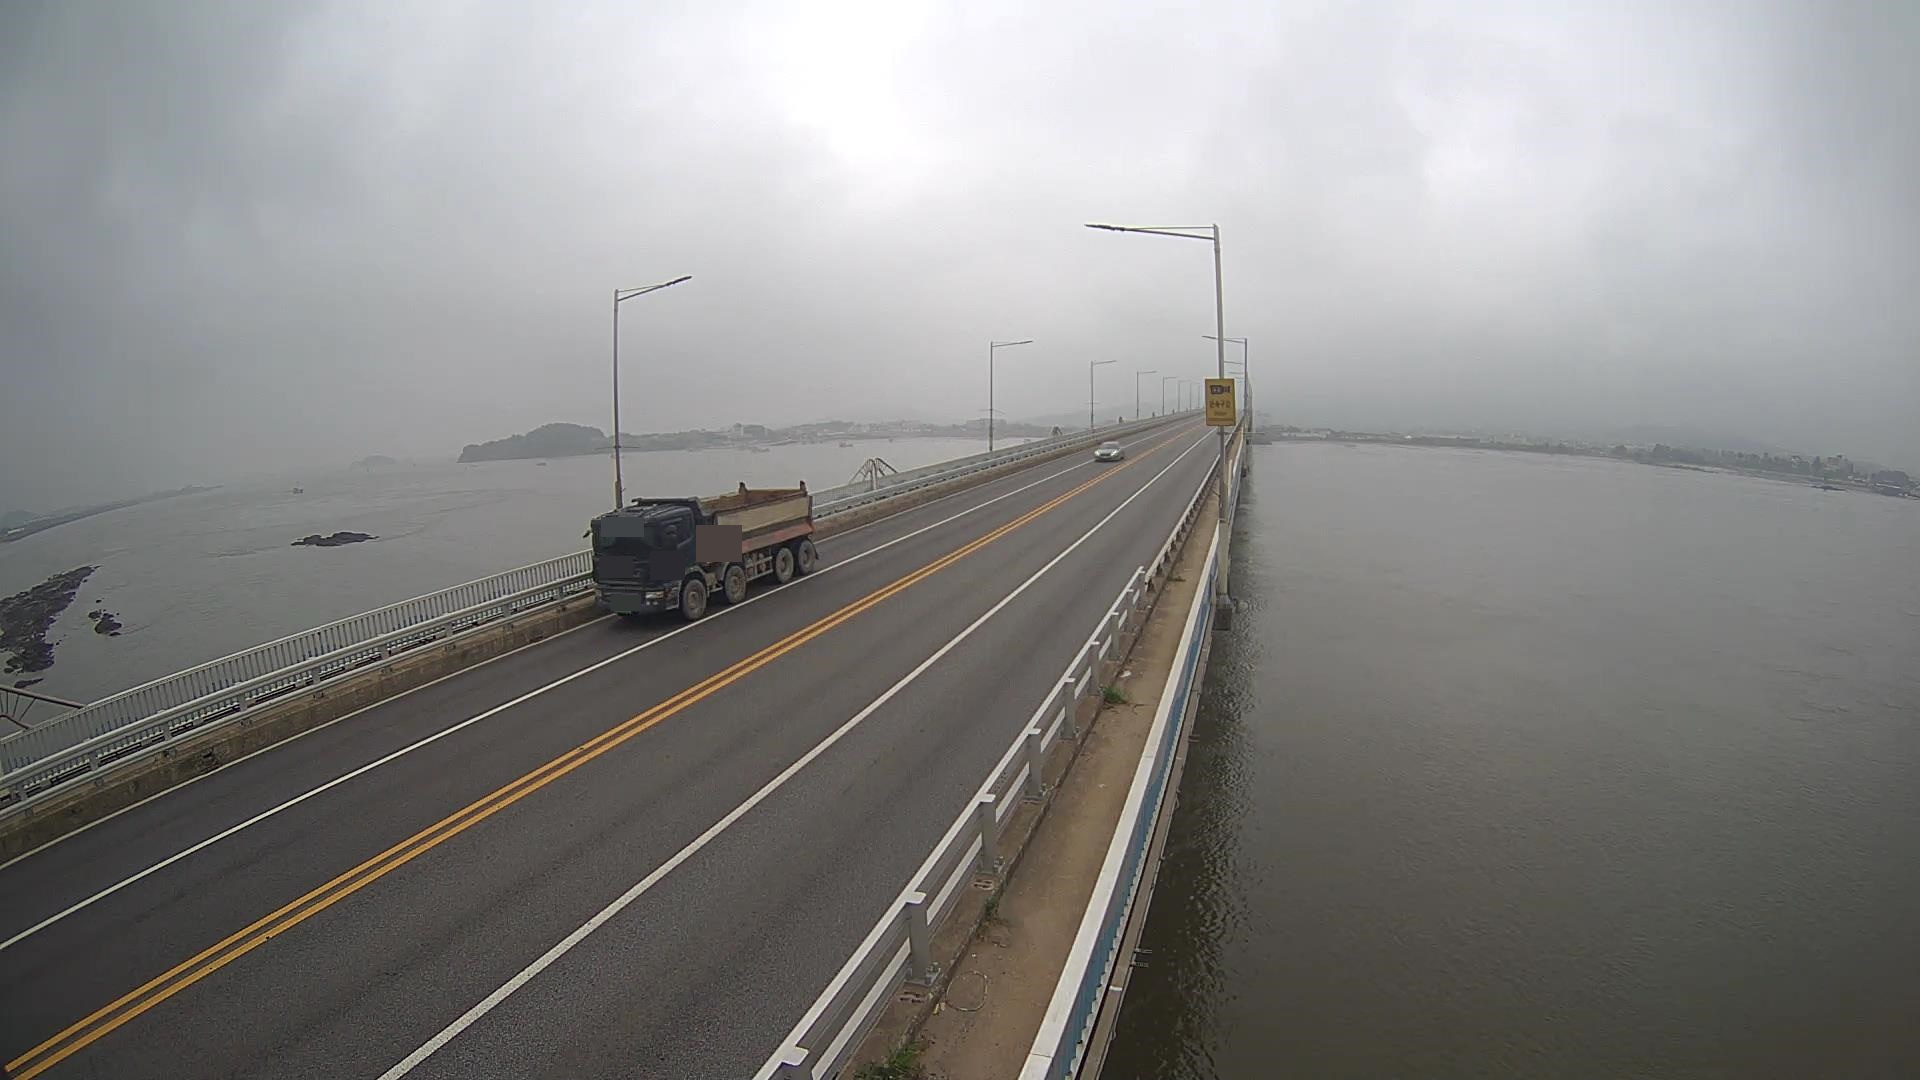정상차량: (583, 481, 819, 618)
